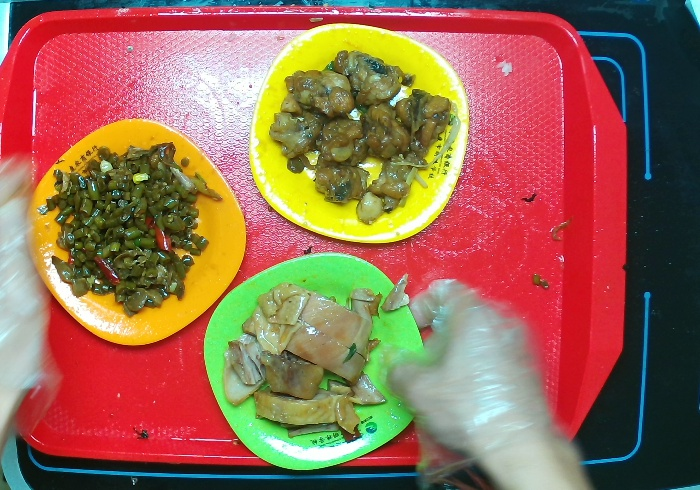YKMZ-Huang_Se_Fang_Die: (249, 24, 477, 253)
YKMZ-Ju_Se_Fang_Die: (21, 115, 250, 348)
YKMZ-Lv_Se_Fang_Die: (203, 249, 443, 471)
